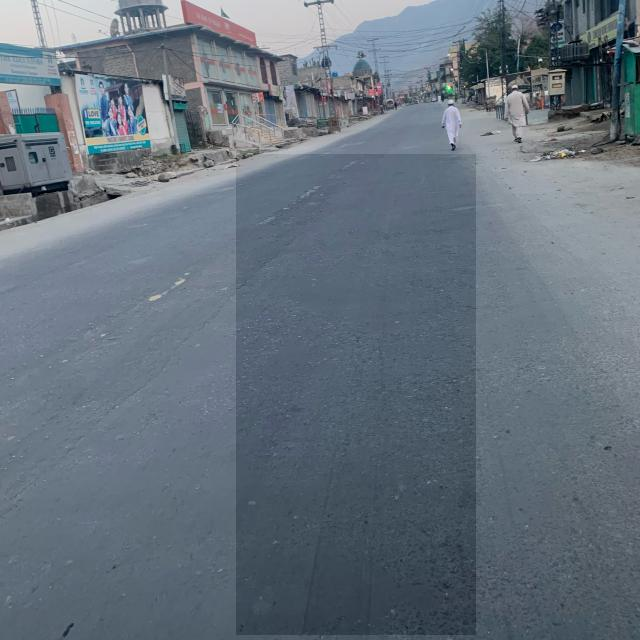straight: (236, 154, 476, 635)
